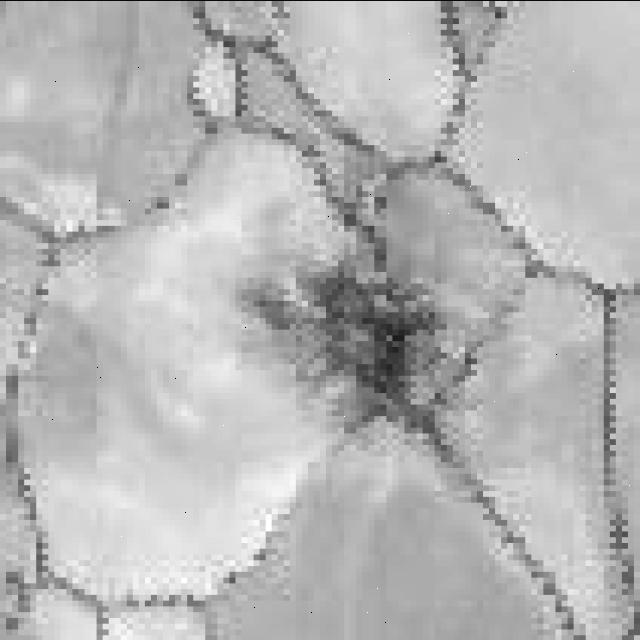good_void: (236, 252, 445, 439)
